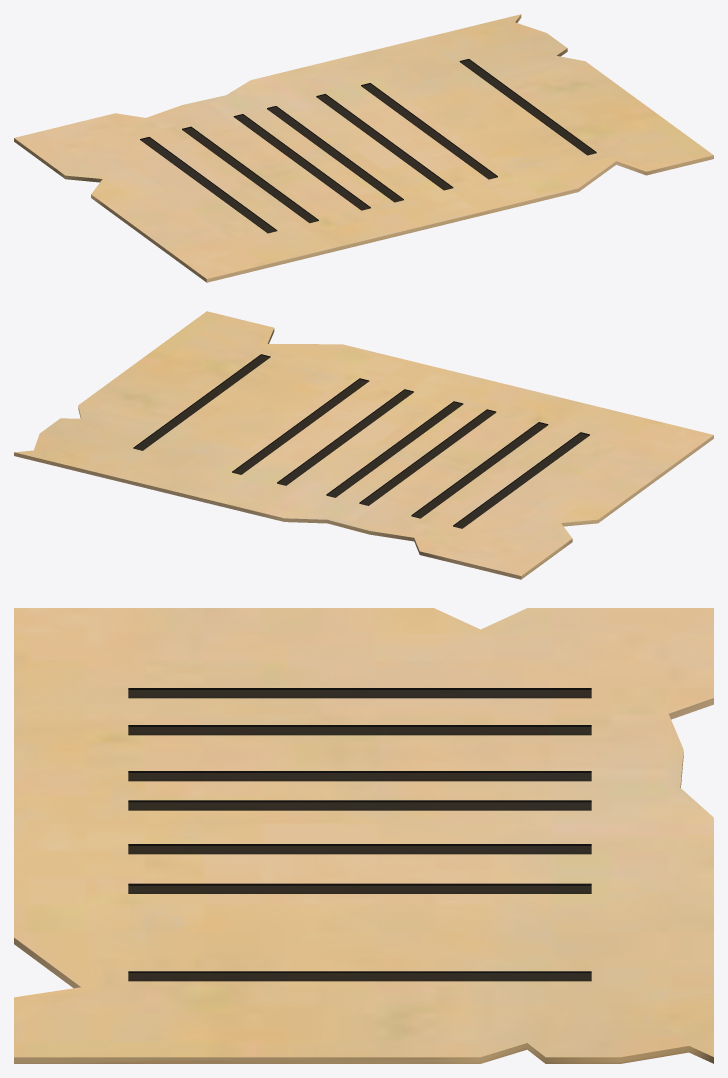
The model's file is Paper.fbx.
3 renders of one model, top to bottom at view 1: azimuth 30°, elevation 25°; view 2: azimuth 150°, elevation 25°; view 3: azimuth 270°, elevation 25°, orthographic. The views are drawn at different scales.
Parts seen in each view (by area): view 1: paper, pCube4, pCube6, pCube7, pCube2, pCube3, pCube5, pCube8; view 2: paper, pCube5, pCube3, pCube2, pCube8, pCube4, pCube7, pCube6; view 3: paper, pCube2, pCube3, pCube4, pCube5, pCube6, pCube7, pCube8.
Part boxes in pixels (box(x1,y1,x2,y2)): paper: box(14, 14, 713, 282); pCube4: box(233, 114, 370, 210); pCube6: box(316, 94, 453, 190); pCube7: box(361, 83, 497, 179); pCube2: box(140, 137, 277, 233); pCube3: box(182, 126, 318, 223); pCube5: box(267, 106, 403, 202); pCube8: box(459, 59, 596, 155); paper: box(14, 311, 713, 579); pCube5: box(326, 401, 463, 497); pCube3: box(411, 422, 548, 518); pCube2: box(453, 432, 589, 528); pCube8: box(133, 354, 270, 450); pCube4: box(359, 409, 496, 505); pCube7: box(232, 378, 369, 474); pCube6: box(277, 389, 413, 485); paper: box(14, 608, 713, 1063); pCube2: box(128, 688, 591, 698); pCube3: box(128, 725, 591, 735); pCube4: box(128, 771, 591, 781); pCube5: box(128, 800, 591, 810); pCube6: box(128, 844, 591, 854); pCube7: box(128, 883, 591, 893); pCube8: box(128, 971, 591, 981).
Bounding box in the file's own units: 4.02 × 0.0873 × 2.65.
